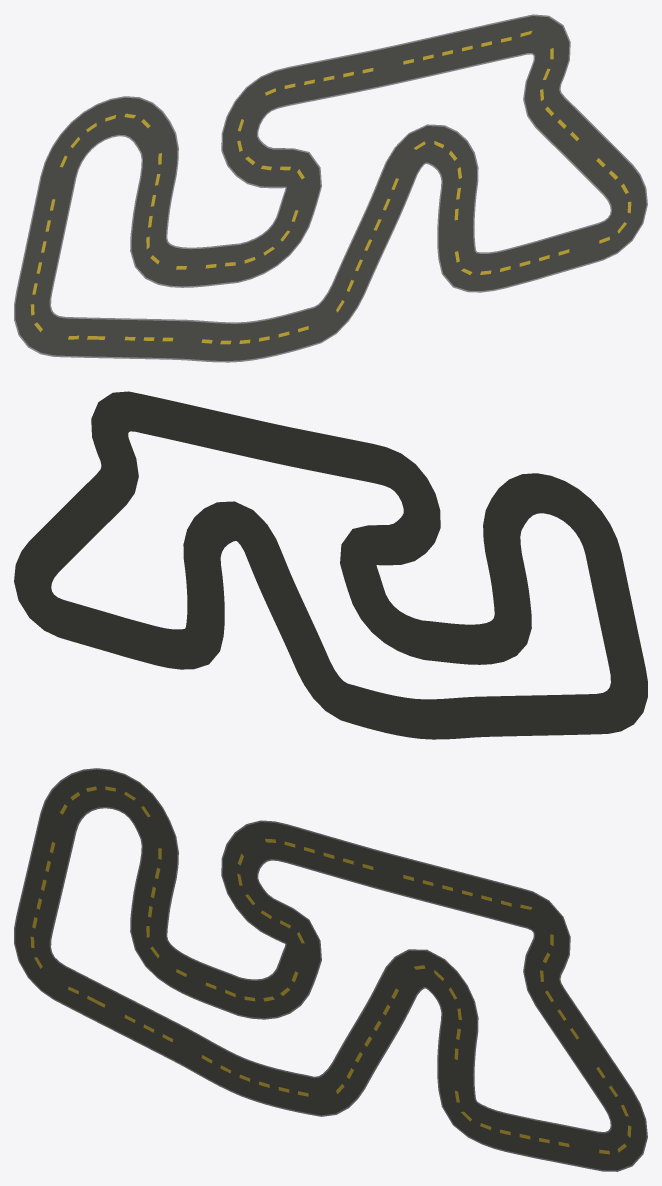
The model's file is track.obj.
The picture shows the model from 3 angles, top to bottom: view 1: azimuth 30°, elevation 25°; view 2: azimuth 150°, elevation 25°; view 3: azimuth 330°, elevation 25°; orthographic projection.
Bounding box in the file's own units: 18.1 × 8.12 × 0.002.
